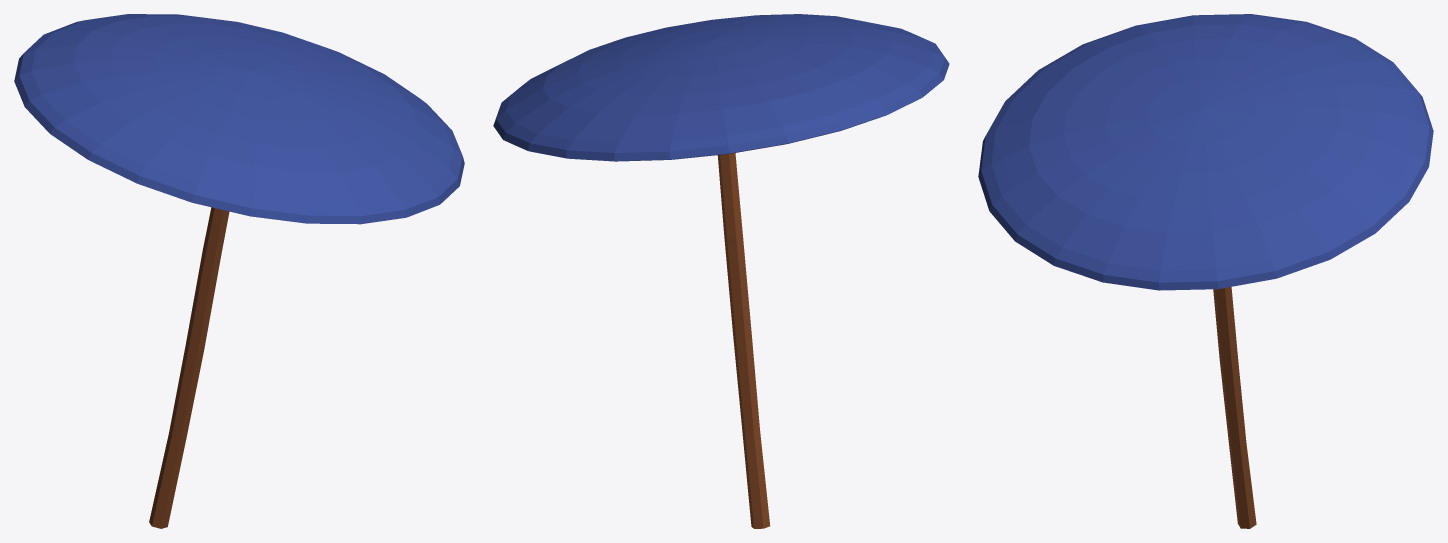
Rendered from sombrilla.fbx.
3 renders of one model, left to right at view 1: azimuth 30°, elevation 25°; view 2: azimuth 150°, elevation 25°; view 3: azimuth 270°, elevation 25°, orthographic.
Visible parts, largest first — view 1: Cylinder.001; view 2: Cylinder.001; view 3: Cylinder.001.
Part boxes in pixels (bbox=[...]): Cylinder.001: bbox=[14, 14, 464, 528]; Cylinder.001: bbox=[493, 14, 949, 528]; Cylinder.001: bbox=[978, 14, 1433, 528].
Size of the model in its own units: 188 by 214 by 191.
